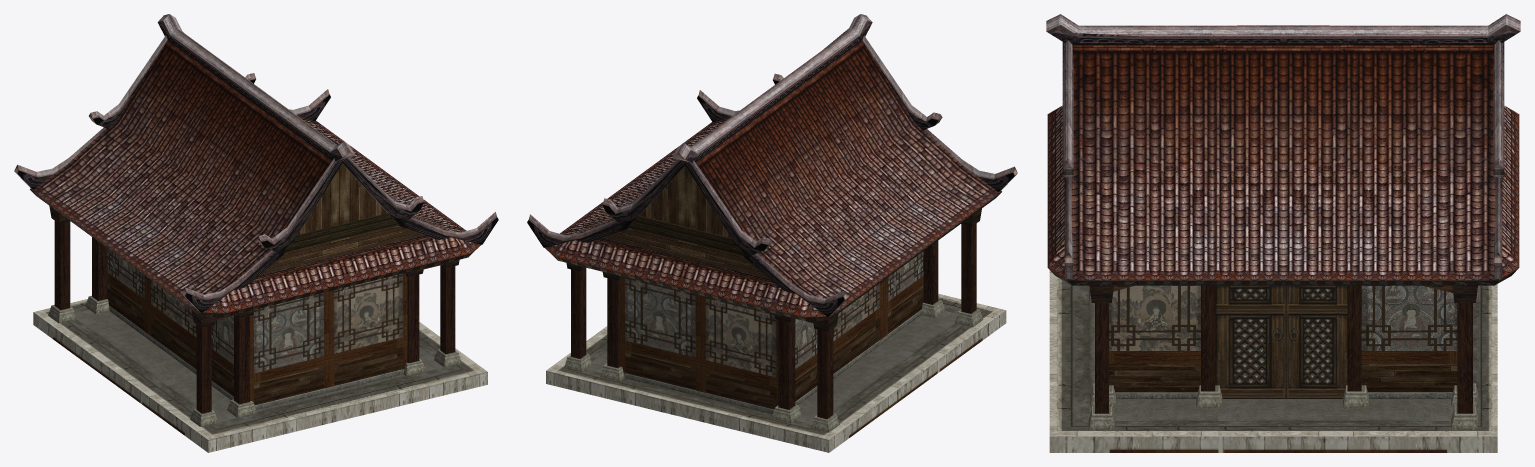
Rendered from ob-032-shamanhouse.fbx.
3 views of the same model, side by side, from view 1: azimuth 30°, elevation 25°; view 2: azimuth 150°, elevation 25°; view 3: azimuth 270°, elevation 25° (orthographic). The views are drawn at different scales.
Parts seen in each view (by area): view 1: ob-032-shamanhouse-1, ob-032-shamanhouse-2; view 2: ob-032-shamanhouse-1, ob-032-shamanhouse-2; view 3: ob-032-shamanhouse-1, ob-032-shamanhouse-2.
Part boxes in pixels (x1,y1,x2,y2): ob-032-shamanhouse-1: (14, 14, 498, 317); ob-032-shamanhouse-2: (33, 206, 487, 452); ob-032-shamanhouse-1: (527, 14, 1017, 321); ob-032-shamanhouse-2: (546, 208, 1006, 452); ob-032-shamanhouse-1: (1046, 14, 1520, 285); ob-032-shamanhouse-2: (1049, 270, 1497, 452).
Bounding box in the file's own units: 8.08 × 6.75 × 8.26.
